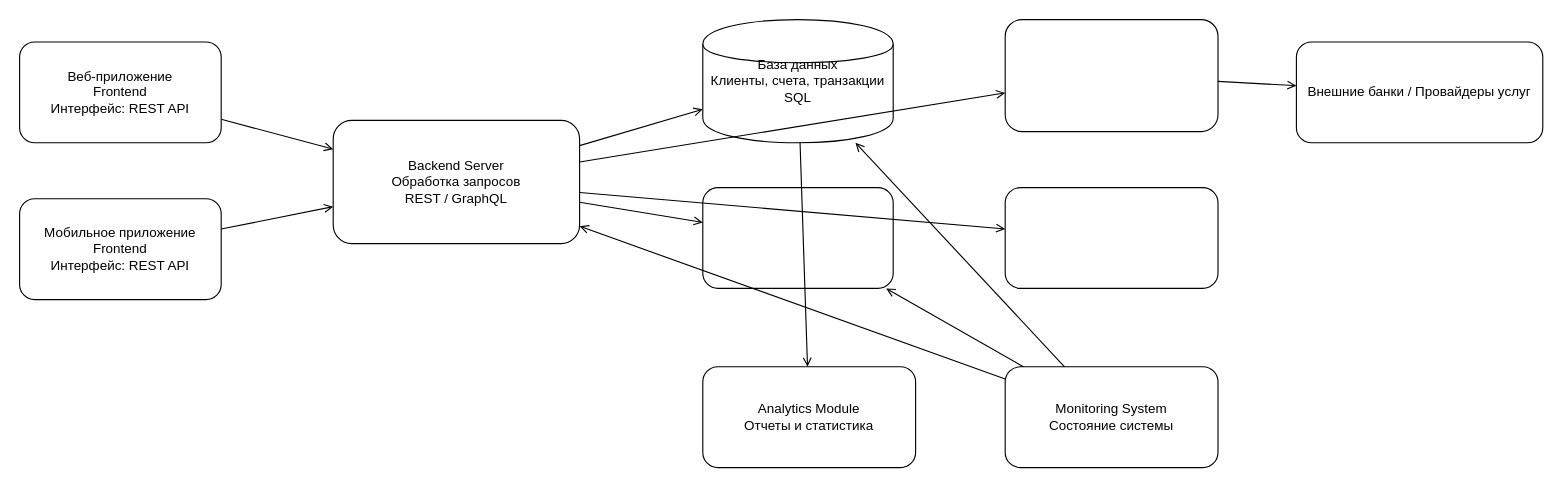
This 1562x487 diagram has some shape labels left out. The shapes that lost their labels are listed below. From the top down, each one's centre as x and y in pixels, then its label:
At pixel 1111 75: "Payment Gateway Переводы и оплаты External API".
At pixel 797 237: "Auth Service Авторизация 2FA / Token".
At pixel 1111 237: "Notification Service SMS / Email".
